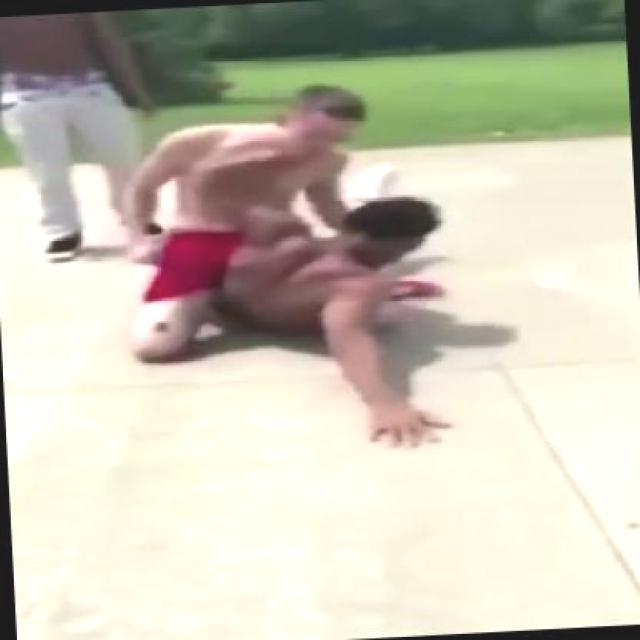fight: (114, 77, 458, 465)
